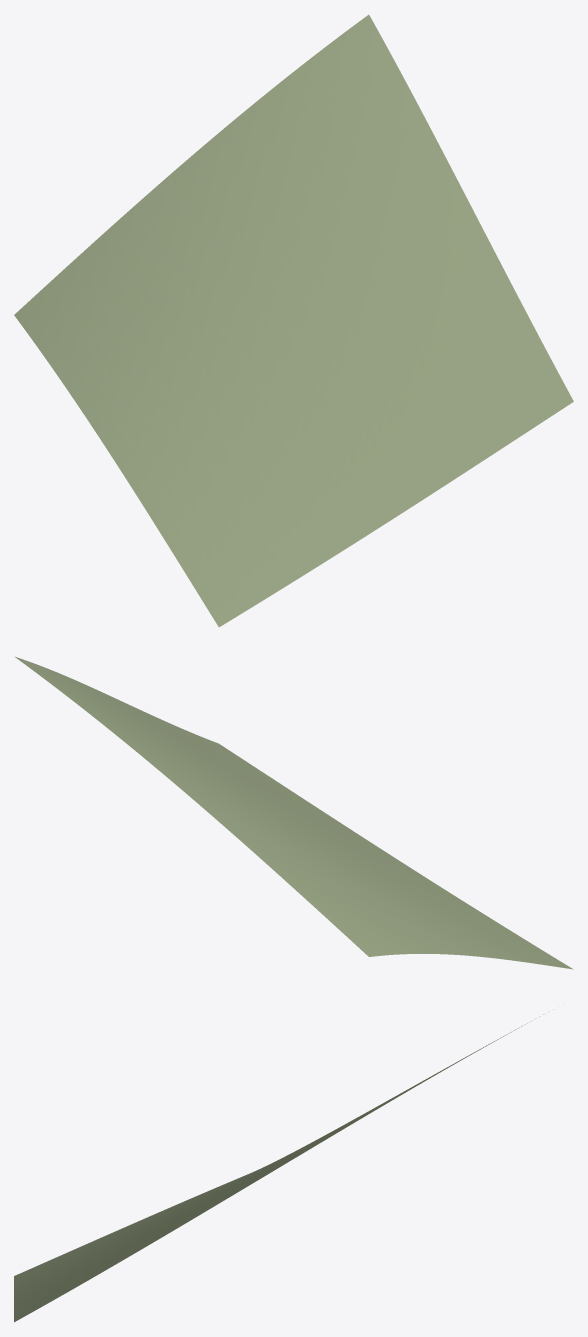
Rendered from alpine-6-8.glb.
3 renders of one model, top to bottom at view 1: azimuth 30°, elevation 25°; view 2: azimuth 150°, elevation 25°; view 3: azimuth 270°, elevation 25°, orthographic. The views are drawn at different scales.
Visible parts, largest first — view 1: alpine-6-8; view 2: alpine-6-8; view 3: alpine-6-8.
Boxes of the visible parts, <box> form: alpine-6-8: <box>14,14,573,627</box>; alpine-6-8: <box>14,656,573,969</box>; alpine-6-8: <box>14,1009,553,1322</box>.
Bounding box in the file's own units: 256 × 259 × 256.
